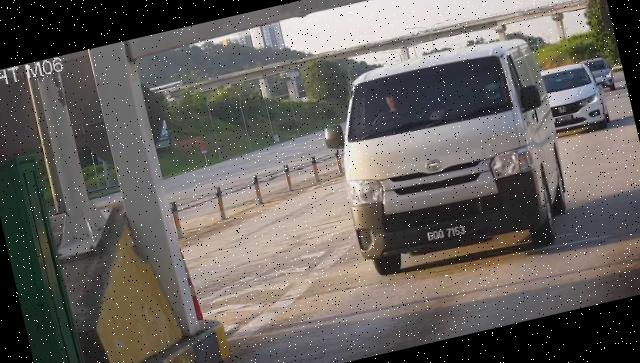License_Plate: (421, 218, 476, 252)
van: (323, 32, 582, 286)
